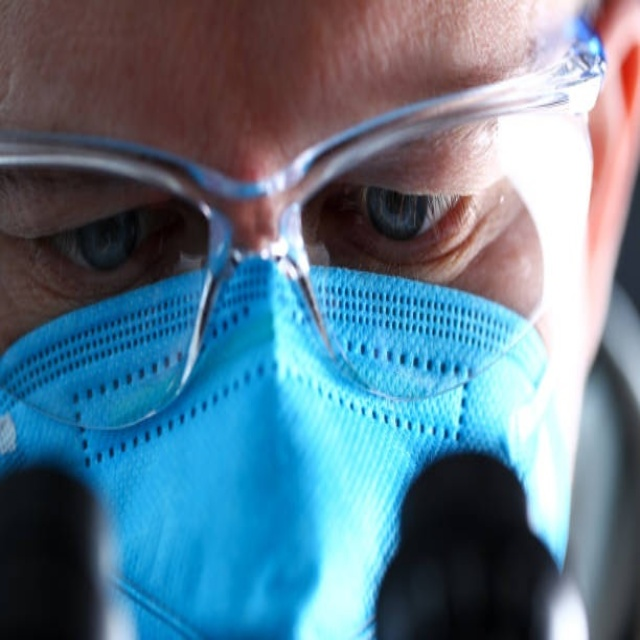Gafas: (4, 10, 609, 430)
Mascara: (5, 250, 573, 640)
